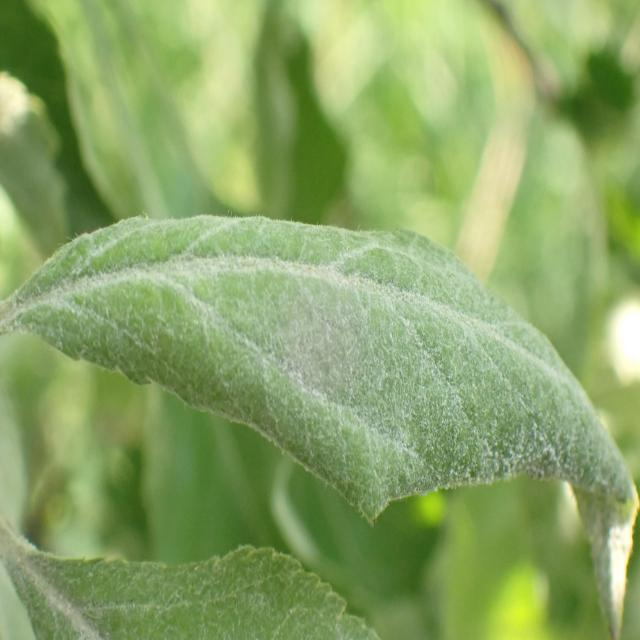Powdery_mildew: (9, 204, 638, 640), (0, 477, 386, 640)
